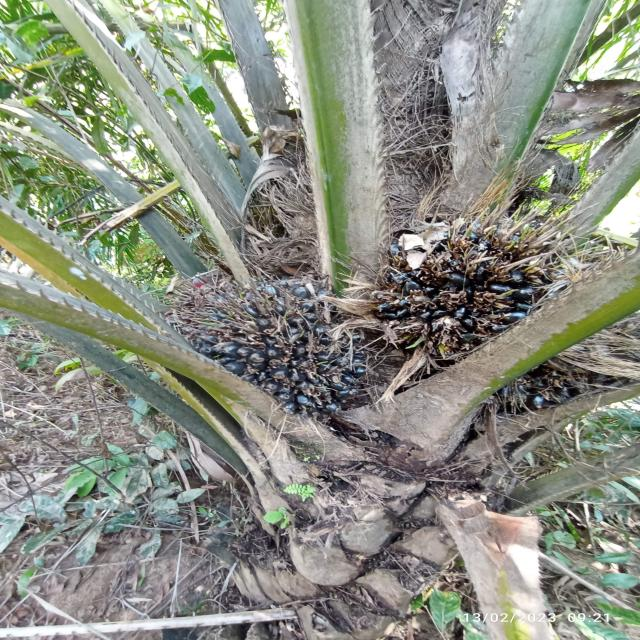fraksi 00: (153, 260, 390, 430), (361, 202, 561, 358)
